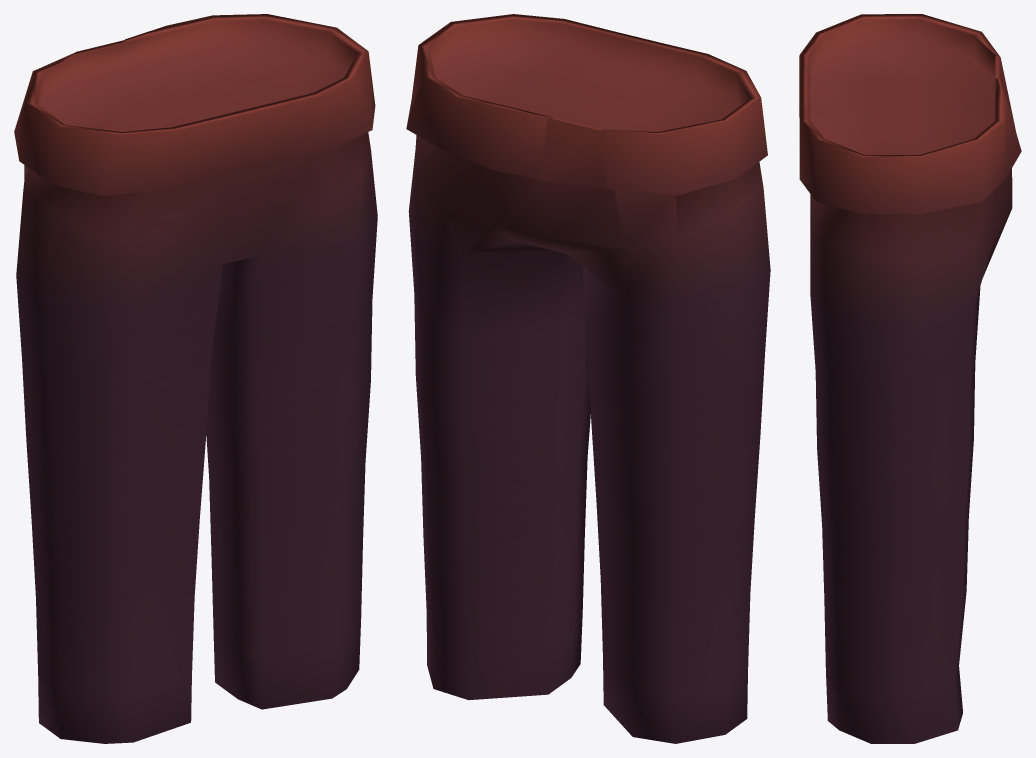
The model's file is Legs01.fbx.
The picture shows the model from 3 angles, left to right: view 1: azimuth 30°, elevation 25°; view 2: azimuth 150°, elevation 25°; view 3: azimuth 270°, elevation 25°; orthographic projection. The views are drawn at different scales.
Visible parts, largest first — view 1: Legs01; view 2: Legs01; view 3: Legs01.
Boxes of the visible parts, x1,y1,x2,y2 form: Legs01: [14, 14, 377, 743]; Legs01: [406, 14, 770, 743]; Legs01: [799, 14, 1021, 743].
Size of the model in its own units: 54.77 by 97.76 by 33.47.
Materials: 1 (1 with a texture image).
